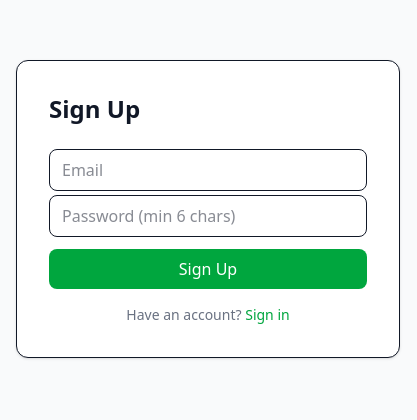
Test case: Signup › shows strength bar when typing password
This screenshot has width=417, height=420.
Type "weak" into the password field with placeholder "Password (min 6 chars)" at (208, 216), box [49, 195, 367, 237]
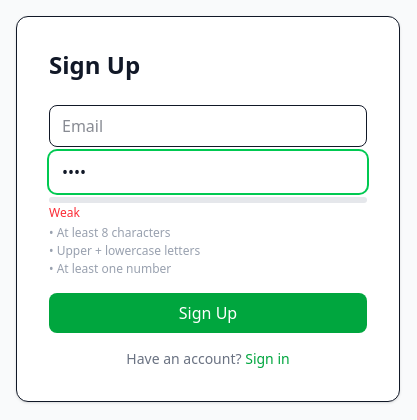
Expected: the text "Weak" is shown, [49, 204, 80, 221]
